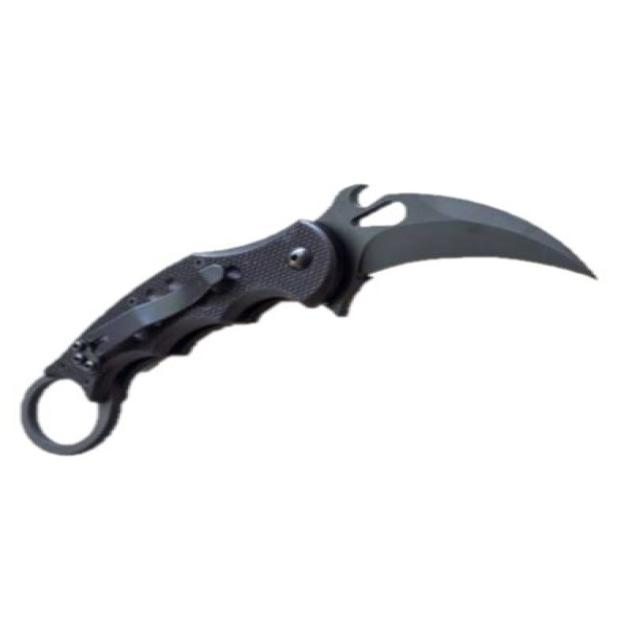knife: (17, 182, 606, 475)
